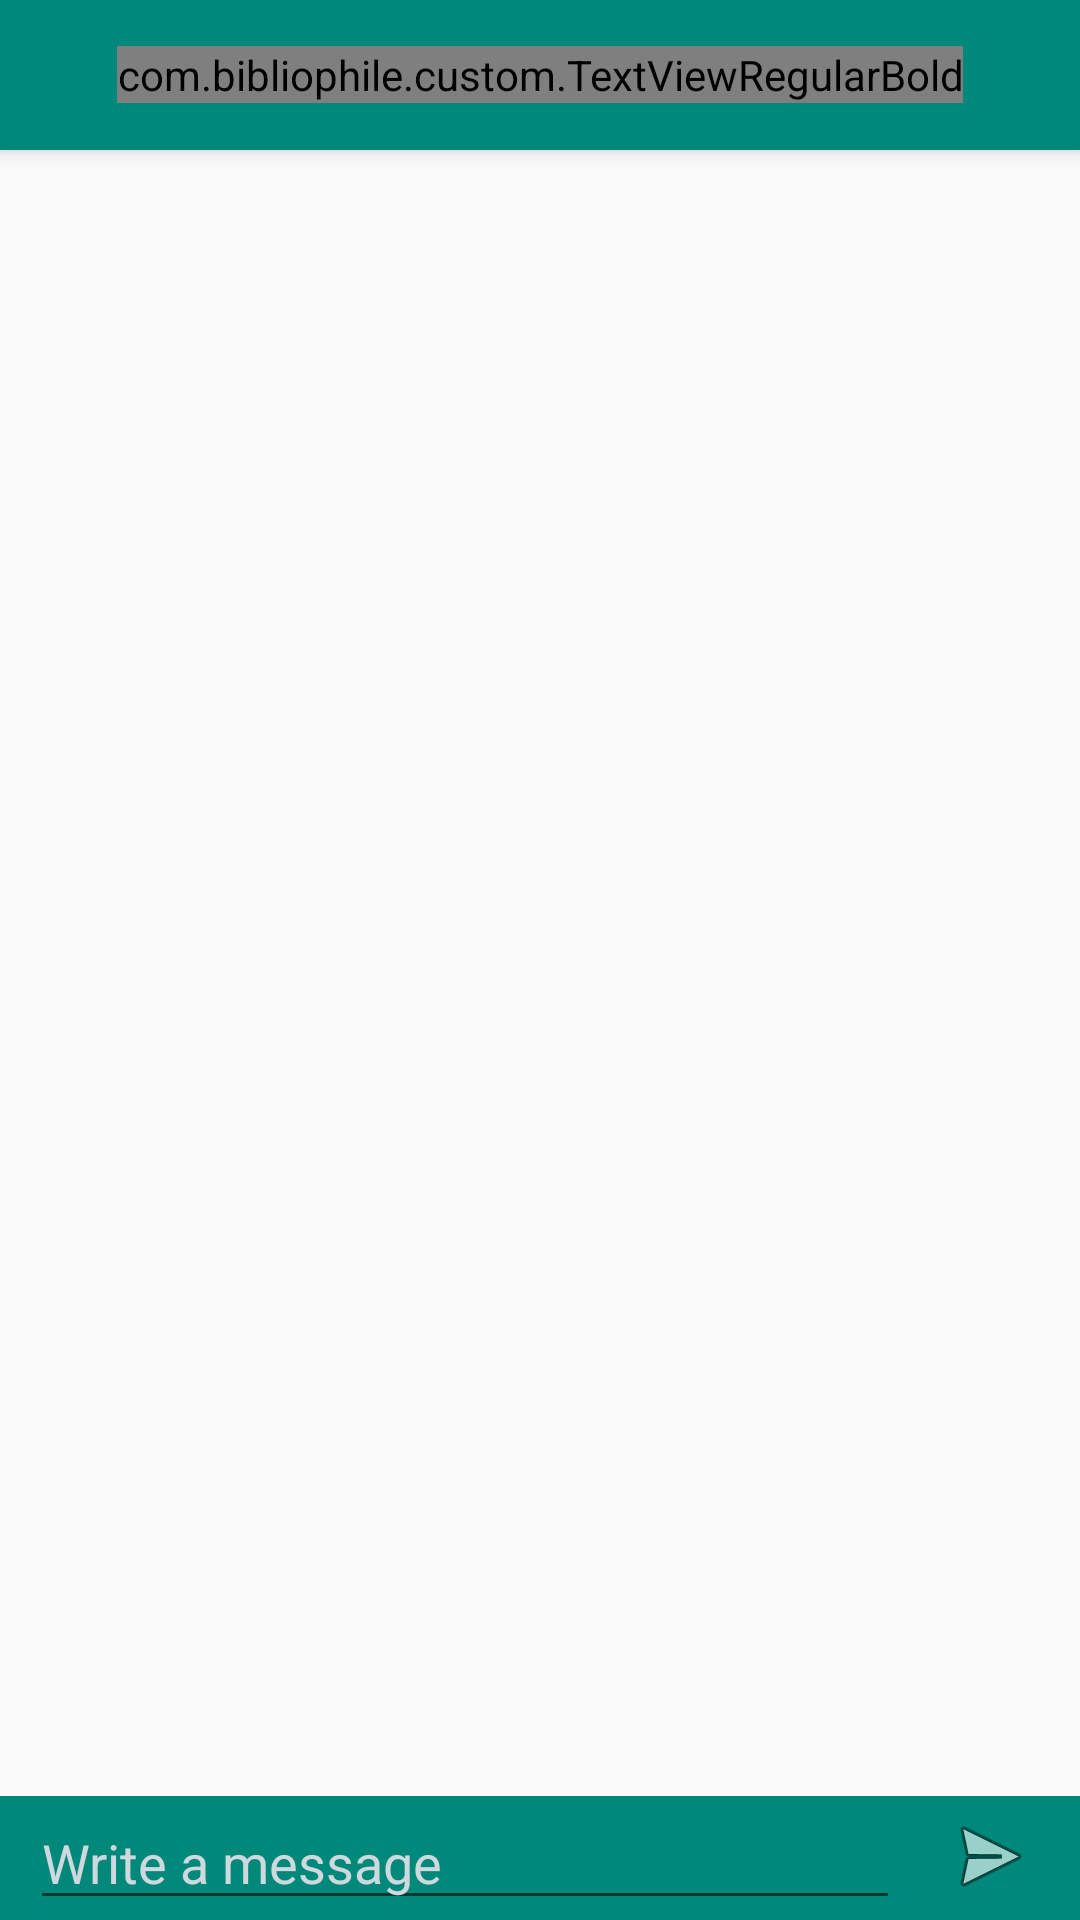

Locate icon controls on the screen. Image size 1080 x 1920, boxes as (x1, y1, x2, y2).
send: (960, 1826, 1021, 1887)
